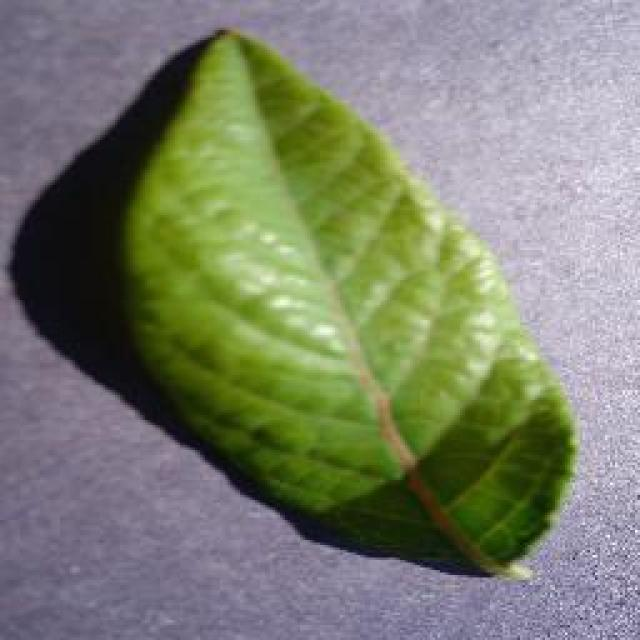Blu_healthy: (164, 120, 486, 494)
